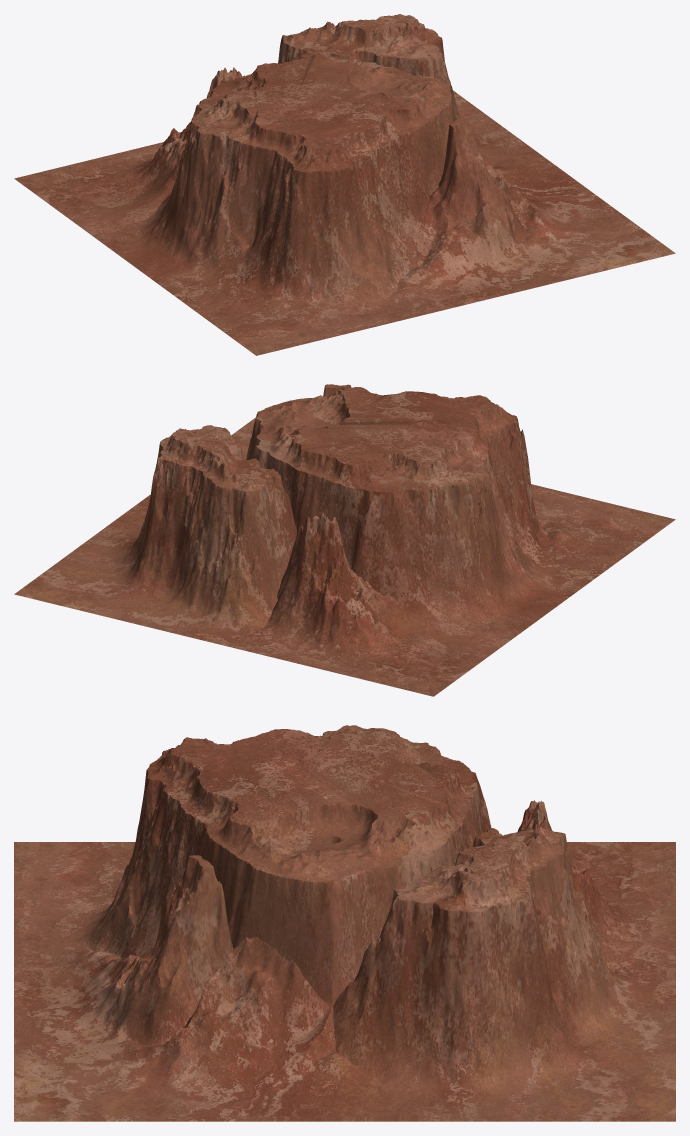
The model's file is ap_modular_wadi_desert_rock1.gltf.
3 views of the same model, one above another, from view 1: azimuth 30°, elevation 25°; view 2: azimuth 150°, elevation 25°; view 3: azimuth 270°, elevation 25° (orthographic). The views are drawn at different scales.
Parts seen in each view (by area): view 1: ap_modular_wadi_desert_rock1; view 2: ap_modular_wadi_desert_rock1; view 3: ap_modular_wadi_desert_rock1.
Boxes of the visible parts, <box> form: ap_modular_wadi_desert_rock1: <box>14,14,675,355</box>; ap_modular_wadi_desert_rock1: <box>14,384,675,696</box>; ap_modular_wadi_desert_rock1: <box>14,725,675,1121</box>.
Size of the model in its own units: 24.07 by 7.26 by 24.07.
1 material, 1 textured.
